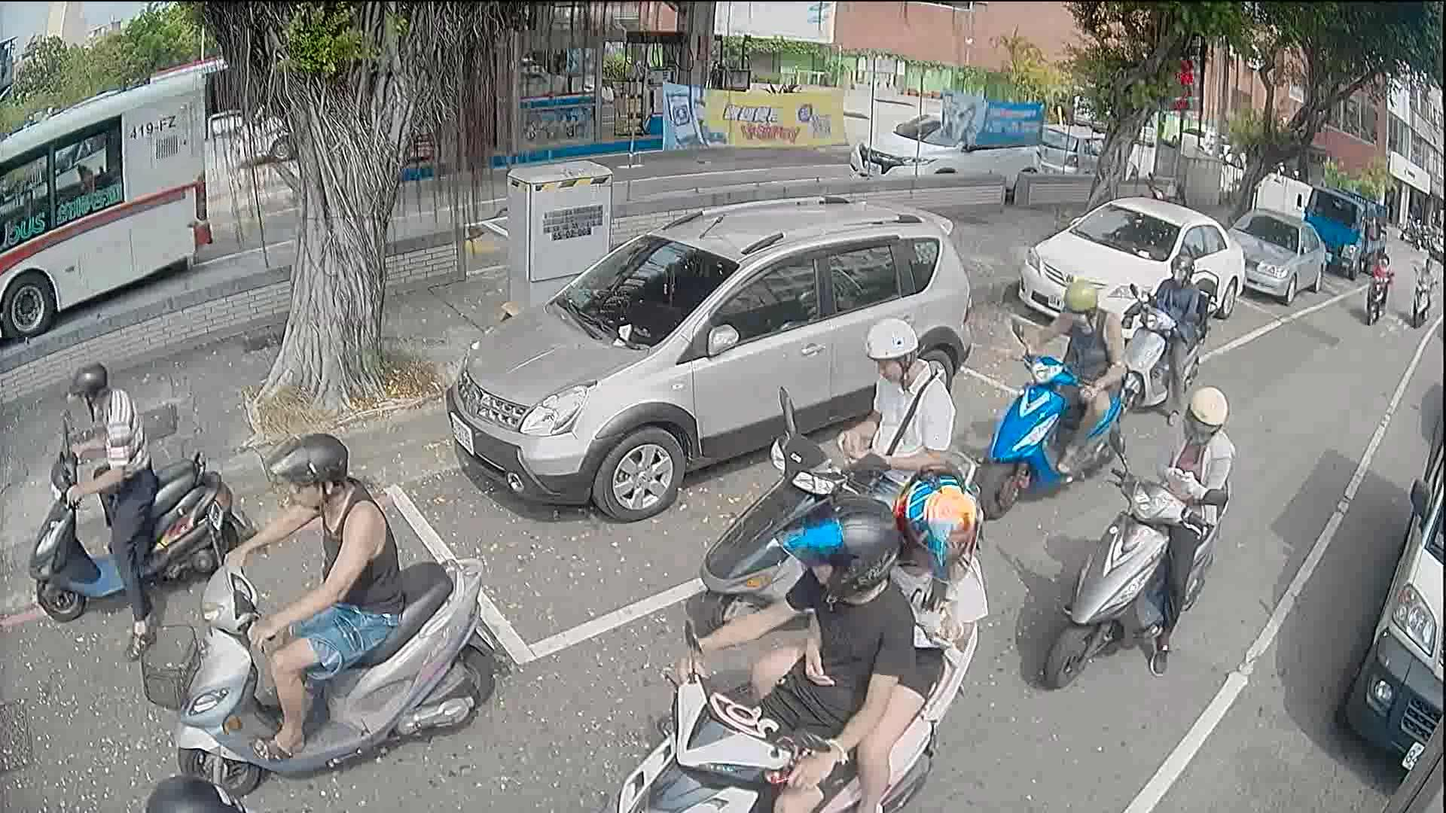person: (649, 491, 912, 812), (755, 461, 987, 811), (214, 423, 403, 769), (39, 364, 167, 641), (1130, 376, 1228, 676), (823, 321, 962, 505), (1022, 263, 1118, 474), (1149, 257, 1215, 412), (146, 759, 246, 811), (1365, 251, 1391, 277), (1419, 257, 1432, 289)
